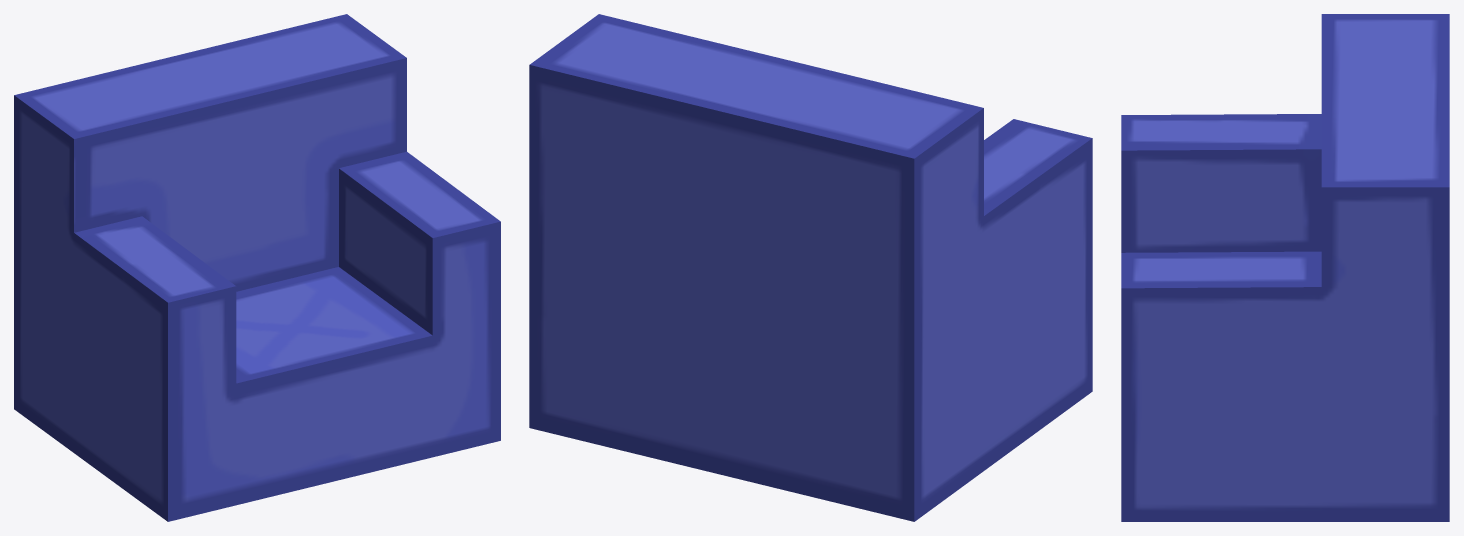
The model's file is armchair.fbx.
The picture shows the model from 3 angles, left to right: view 1: azimuth 30°, elevation 25°; view 2: azimuth 150°, elevation 25°; view 3: azimuth 270°, elevation 25°; orthographic projection. The views are drawn at different scales.
Visible parts, largest first — view 1: pCube2; view 2: pCube2; view 3: pCube2.
Part boxes in pixels (<box>): pCube2: <box>14,14,500,521</box>; pCube2: <box>529,14,1092,521</box>; pCube2: <box>1121,14,1449,521</box>.
Size of the model in its own units: 2.21 by 1.99 by 1.77.
